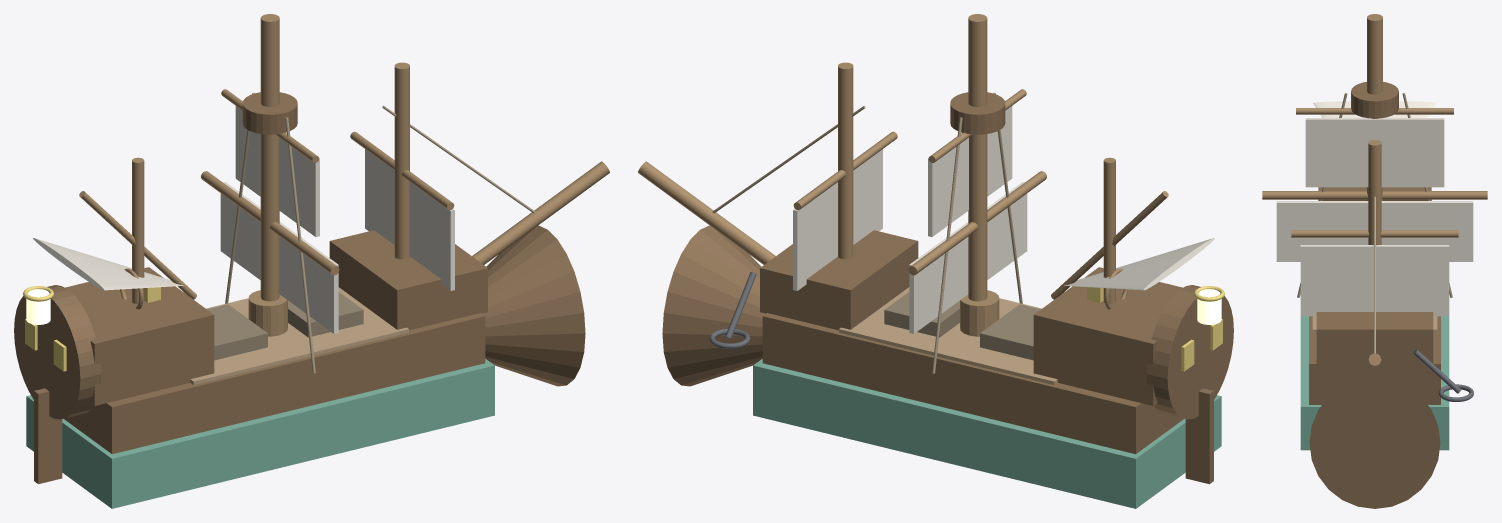
File: fluyt_cargo_ship.glb
The picture shows the model from 3 angles, left to right: view 1: azimuth 30°, elevation 25°; view 2: azimuth 150°, elevation 25°; view 3: azimuth 270°, elevation 25°; orthographic projection. The views are drawn at different scales.
Visible parts, largest first — view 1: Cube, Cube.001, Cone, Cube.003, Cube.002, Cylinder, Cube.011, Cube.013, Cylinder.004, Cube.007, Cube.012, Cylinder.010 (+13 smaller); view 2: Cube, Cube.001, Cube.003, Cone, Cube.002, Cylinder, Cube.011, Cube.013, Cylinder.004, Cube.007, Cube.012, Cylinder.010 (+13 smaller); view 3: Cone, Cube.013, Cube.012, Cube.011, Cube.002, Cube.001, Cube, Cylinder.006, Cylinder.005, Cylinder.010, Cylinder.004, Cylinder.011 (+6 smaller).
Part boxes in pixels (left/top/right/bottom): Cube: left=26, top=359, right=494, bottom=508; Cube.001: left=64, top=313, right=485, bottom=454; Cone: left=482, top=225, right=585, bottom=386; Cube.003: left=65, top=267, right=214, bottom=405; Cube.002: left=329, top=230, right=487, bottom=330; Cylinder: left=14, top=285, right=101, bottom=419; Cube.011: left=220, top=182, right=338, bottom=333; Cube.013: left=365, top=149, right=454, bottom=290; Cylinder.004: left=260, top=14, right=279, bottom=301; Cube.007: left=190, top=287, right=408, bottom=384; Cube.012: left=235, top=106, right=319, bottom=236; Cylinder.010: left=394, top=62, right=409, bottom=259; Cube: left=753, top=359, right=1221, bottom=508; Cube.001: left=762, top=313, right=1183, bottom=454; Cube.003: left=1033, top=267, right=1182, bottom=405; Cone: left=662, top=225, right=765, bottom=386; Cube.002: left=760, top=230, right=918, bottom=330; Cylinder: left=1146, top=285, right=1233, bottom=419; Cube.011: left=909, top=182, right=1027, bottom=333; Cube.013: left=793, top=149, right=882, bottom=290; Cylinder.004: left=968, top=14, right=987, bottom=301; Cube.007: left=839, top=287, right=1057, bottom=384; Cube.012: left=928, top=106, right=1012, bottom=236; Cylinder.010: left=838, top=62, right=853, bottom=259; Cone: left=1309, top=377, right=1440, bottom=508; Cube.013: left=1300, top=245, right=1449, bottom=316; Cube.012: left=1305, top=118, right=1444, bottom=187; Cube.011: left=1276, top=201, right=1473, bottom=261; Cube.002: left=1316, top=312, right=1433, bottom=367; Cube.001: left=1309, top=316, right=1440, bottom=404; Cube: left=1300, top=316, right=1449, bottom=450; Cylinder.006: left=1262, top=191, right=1487, bottom=199; Cylinder.005: left=1351, top=82, right=1398, bottom=118; Cylinder.010: left=1368, top=140, right=1381, bottom=245; Cylinder.004: left=1367, top=14, right=1382, bottom=200; Cylinder.011: left=1291, top=230, right=1458, bottom=237.
Bounding box in the file's own units: 6.09 × 4.31 × 2.35.
